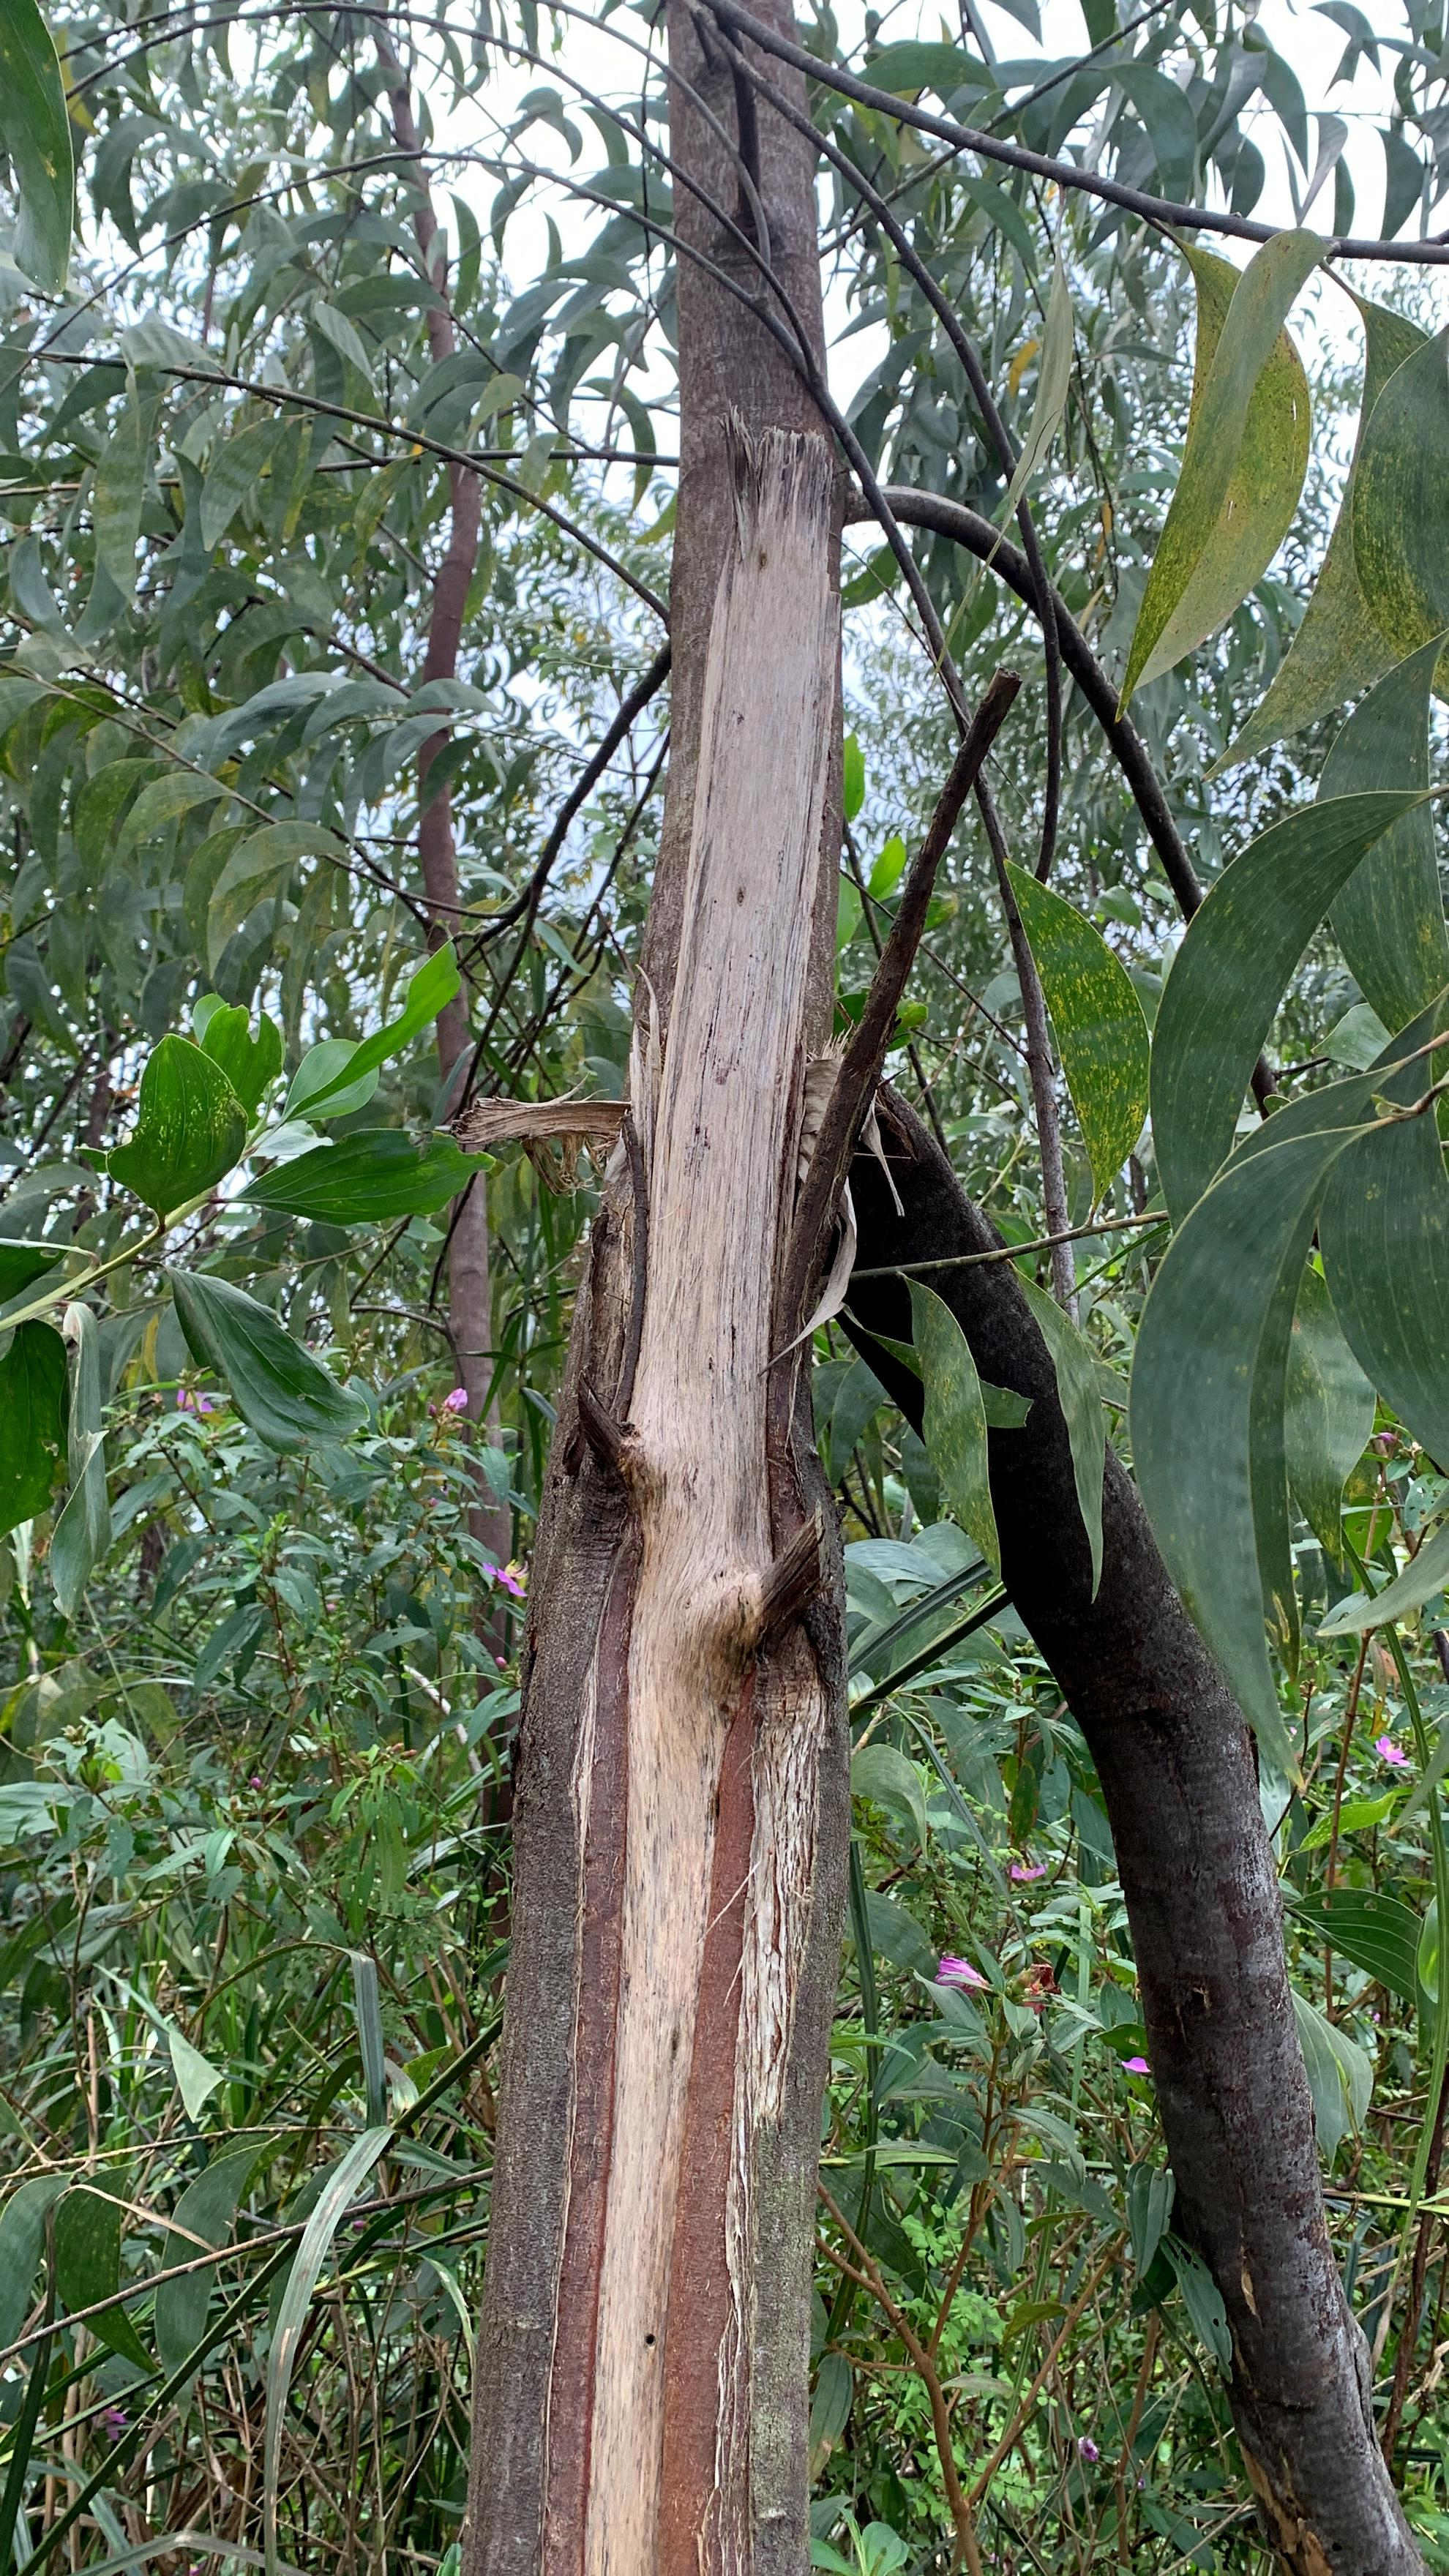Mammals Attack: (487, 0, 817, 2576)
